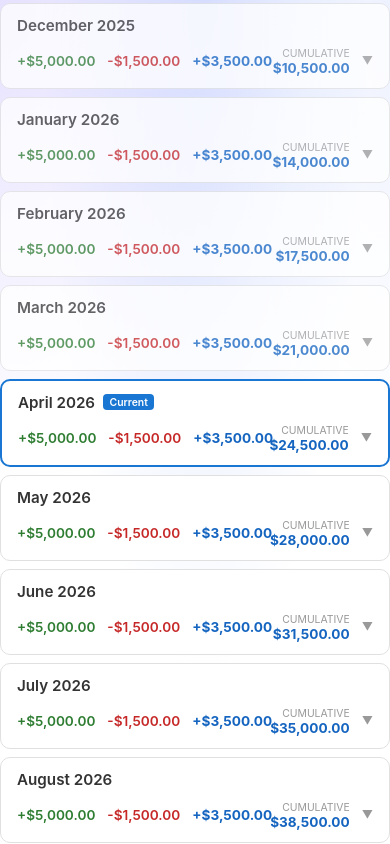
AnalyticsView › shows income and expense sections in expanded month
(page scrolled)
Note: Find & click the current month card
Step 1. Click the button with class "month-header" that starts with "April 2026" → [57, 402], box [2,381,388,465]
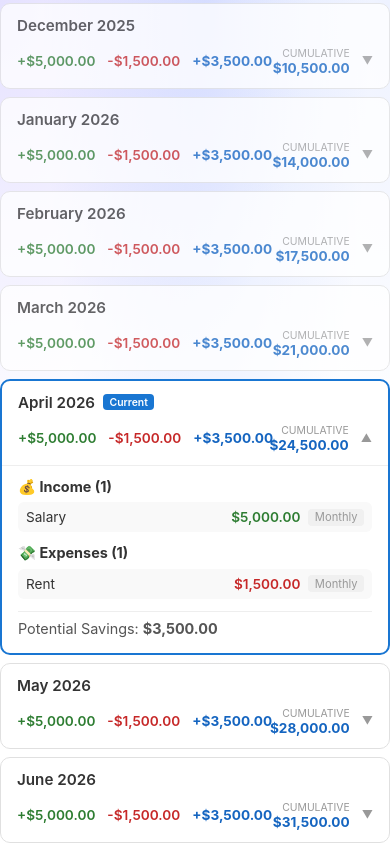
Expected: the text "rent" is shown, [110,396,148,409]
Result: the text "Salary" is shown at [26,509,66,525]
